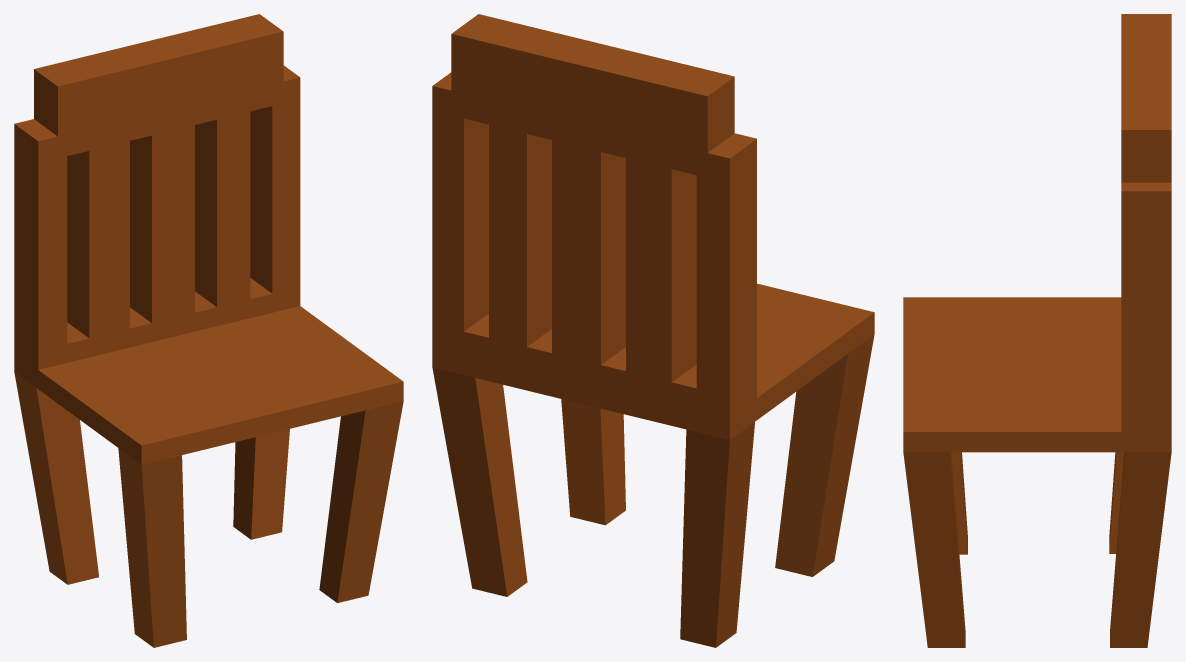
File: Chair.dae
3 renders of one model, left to right at view 1: azimuth 30°, elevation 25°; view 2: azimuth 150°, elevation 25°; view 3: azimuth 270°, elevation 25°, orthographic. The views are drawn at different scales.
Parts seen in each view (by area): view 1: Chair (×5); view 2: Chair (×5); view 3: Chair.
Boxes of the visible parts, x1,y1,x2,y2 form: Chair (×5): [14, 14, 403, 647]; Chair (×5): [432, 14, 874, 647]; Chair: [903, 14, 1171, 647].
Bounding box in the file's own units: 38.55 × 32.45 × 69.6.
